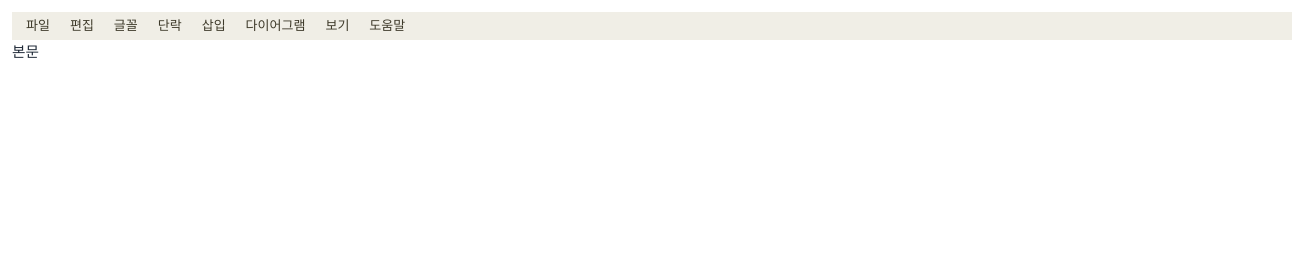
Test case: MenuBar › switches menus on hover while one is open and closes on Escape
Click the menu item "파일" at coordinates (38, 26), box top-left (16, 14), bottom-right (60, 38)
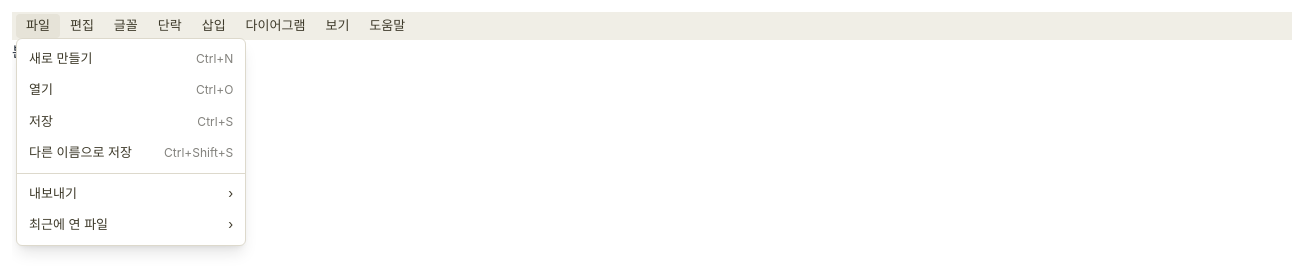
Hover over the menu item "삽입" at coordinates (214, 26), box top-left (192, 14), bottom-right (236, 38)
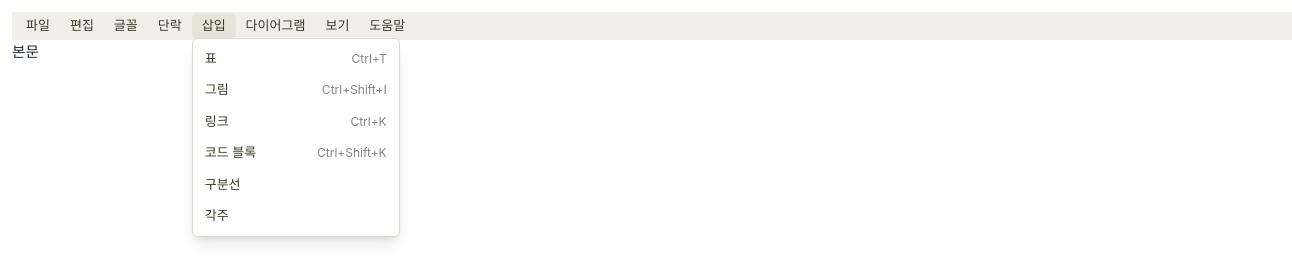
Expected: the menu item "구분선" is shown, top-left (193, 169), bottom-right (399, 200)
Press Escape
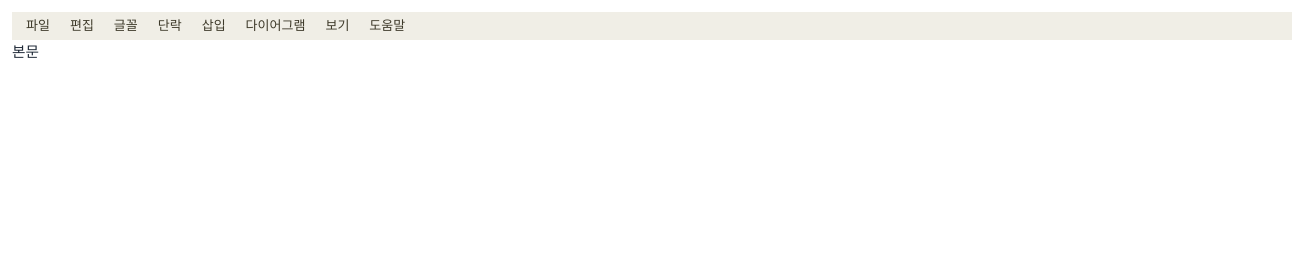
Expected: the menu is gone
